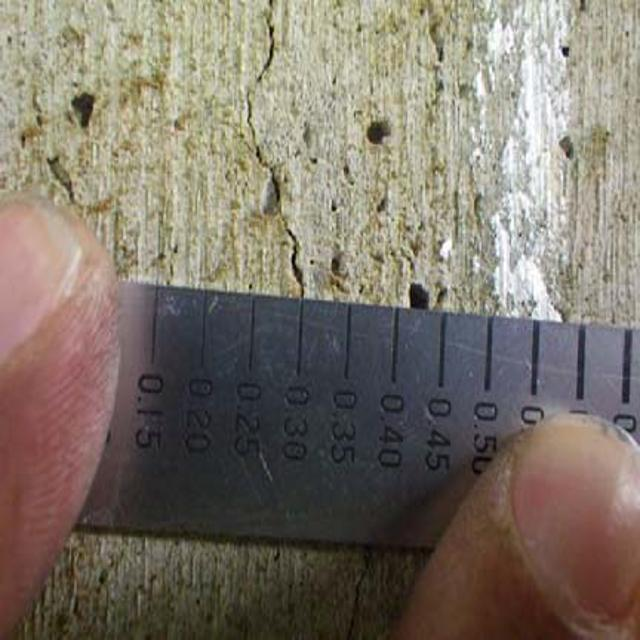crack: (240, 13, 324, 288)
